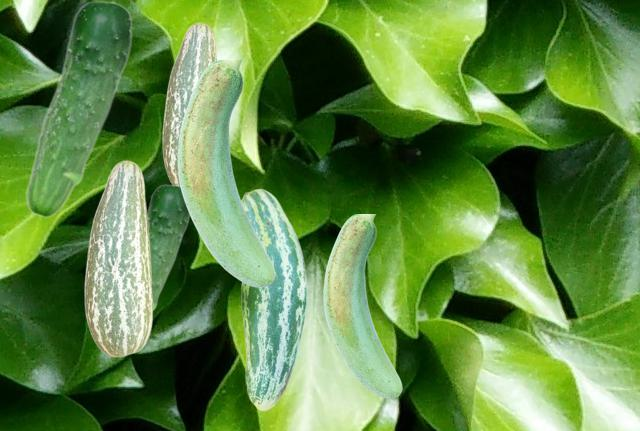cucumber: (25, 0, 132, 217), (177, 60, 274, 286), (240, 188, 306, 410), (323, 214, 401, 397), (84, 160, 152, 356), (162, 22, 217, 184), (148, 184, 190, 311)
